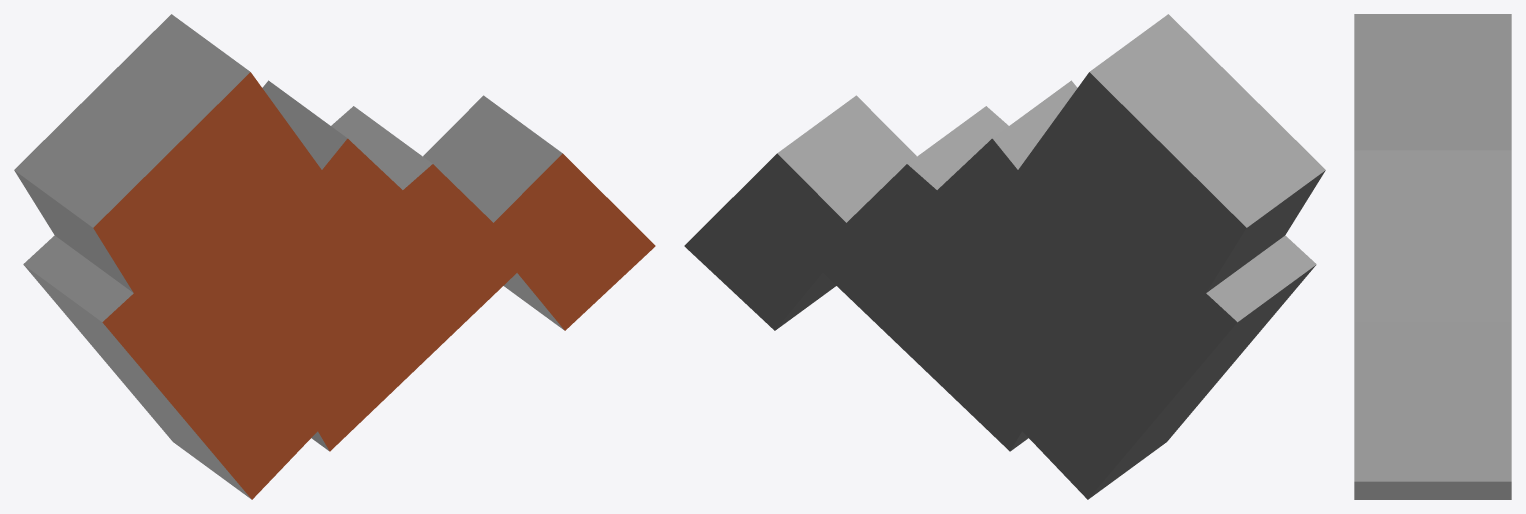
The model's file is construction_1997_assumed_A_Casa_h6m.obj.
The picture shows the model from 3 angles, left to right: view 1: azimuth 30°, elevation 25°; view 2: azimuth 150°, elevation 25°; view 3: azimuth 270°, elevation 25°; orthographic projection.
Visible parts, largest first — view 1: construction_1997_assumed_A_Casa; view 2: construction_1997_assumed_A_Casa; view 3: construction_1997_assumed_A_Casa.
Part boxes in pixels (x1,y1,x2,y2): construction_1997_assumed_A_Casa: (14,14,655,499); construction_1997_assumed_A_Casa: (684,14,1325,499); construction_1997_assumed_A_Casa: (1354,14,1511,499).
Size of the model in its own units: 24.62 by 17.91 by 6.
